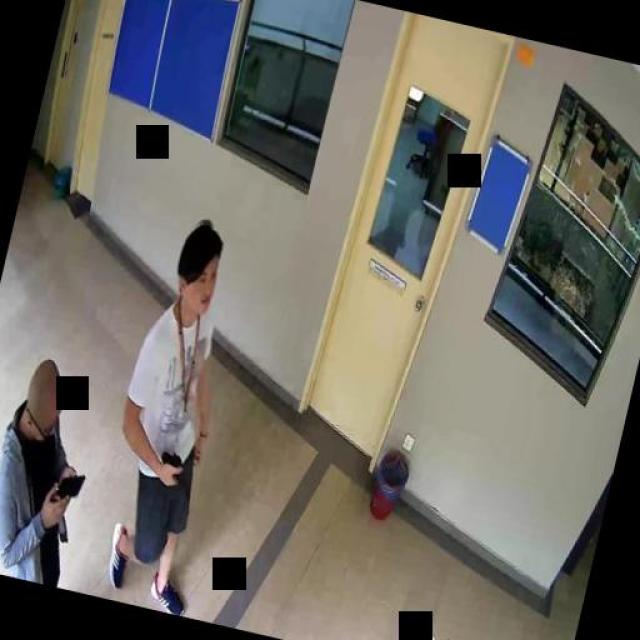gun: (152, 448, 196, 500)
